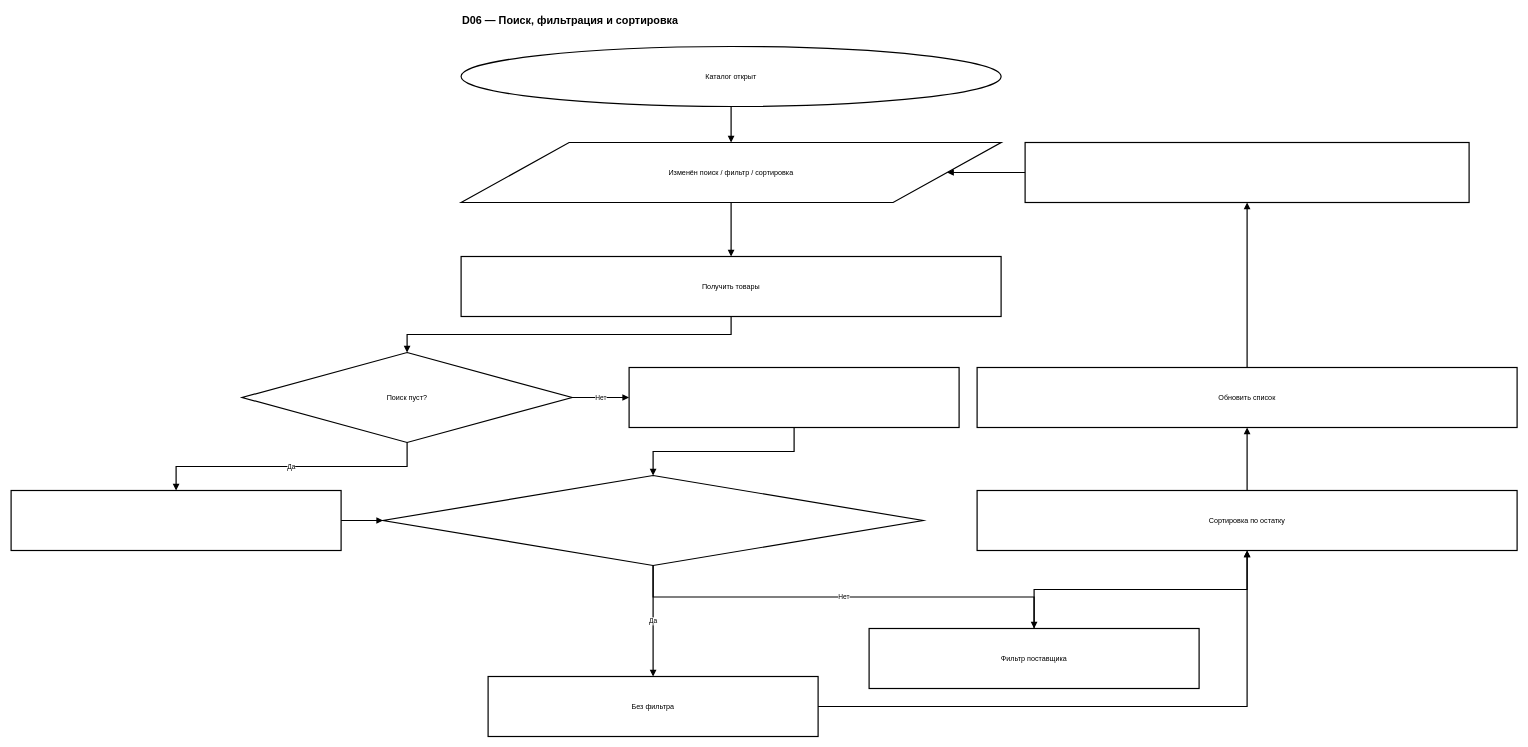
This 1528x747 diagram has some shape labels left out. The shapes that lost their labels are listed below. From the top down, each one's centre as x and y in pixels, then its label:
point 1246,172: Ожидать изменение параметров
point 793,397: Найти совпадения по текстовым полям
point 175,520: Показать все товары
point 652,520: «Все поставщики»?
